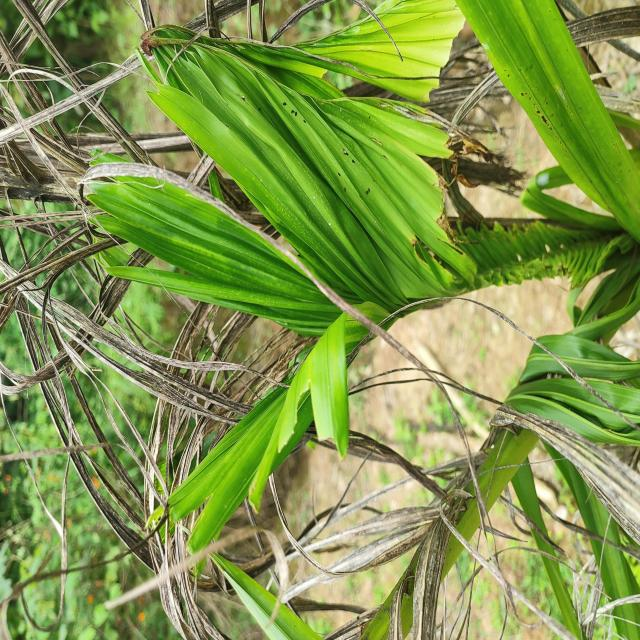Bud_Borer: (44, 155, 433, 581)
